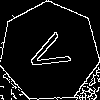V: (24, 27, 80, 78)
